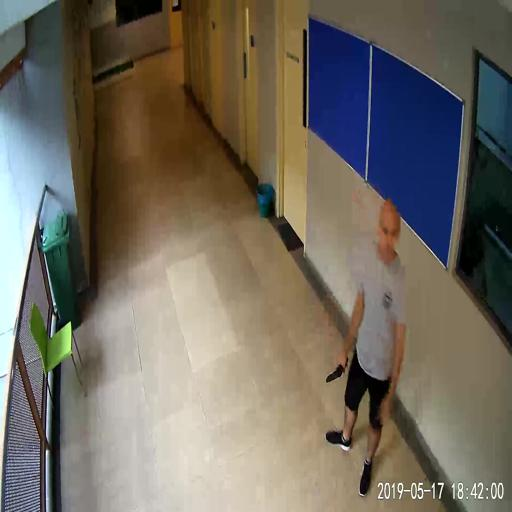pistol: (325, 353, 347, 382)
